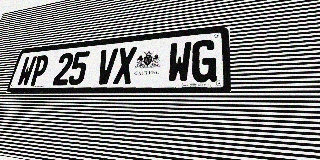2: (52, 52, 75, 86)
5: (67, 51, 90, 85)
G: (191, 39, 217, 83)
P: (28, 55, 50, 86)
V: (95, 48, 118, 85)
W: (166, 41, 192, 83), (16, 56, 37, 86)
X: (113, 46, 137, 84)
